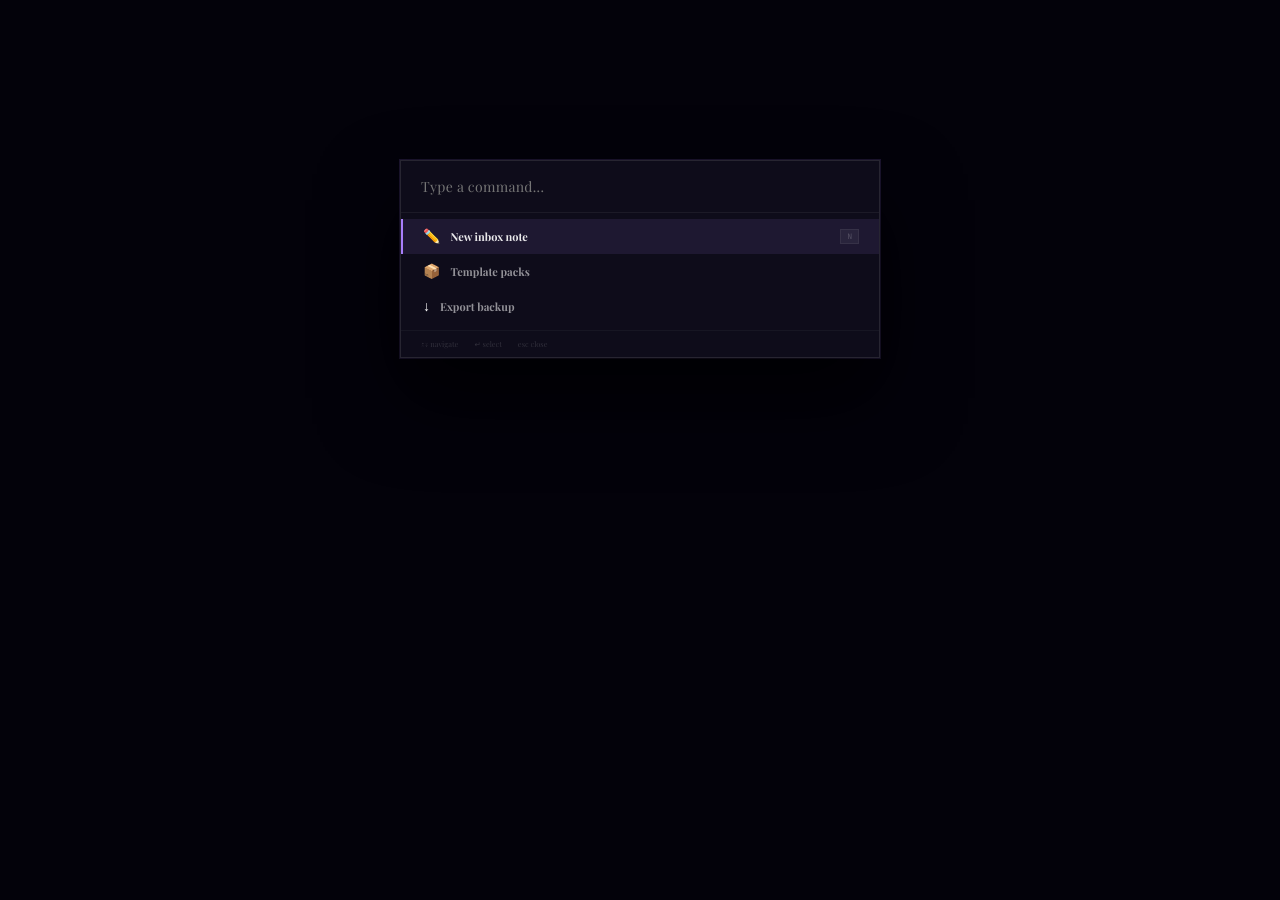
Test: CommandPalette › filters actions by keyword
This screenshot has width=1280, height=900.
Type "json" into the field with placeholder "Type a command..." at [640, 186], box [421, 177, 859, 196]
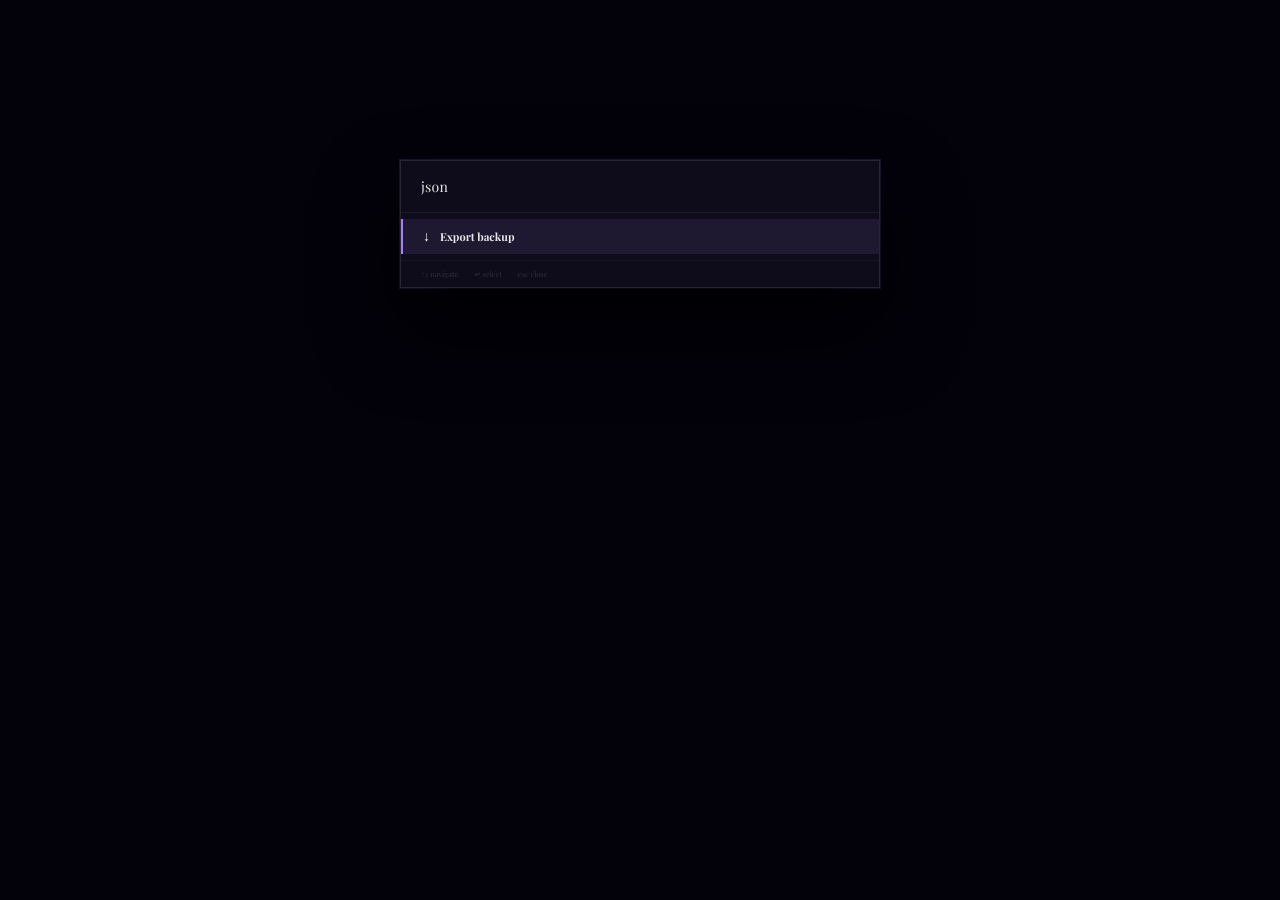
Expected: the text "Export backup" is shown, [440, 229, 514, 244]
Now the text "New inbox note" is gone
